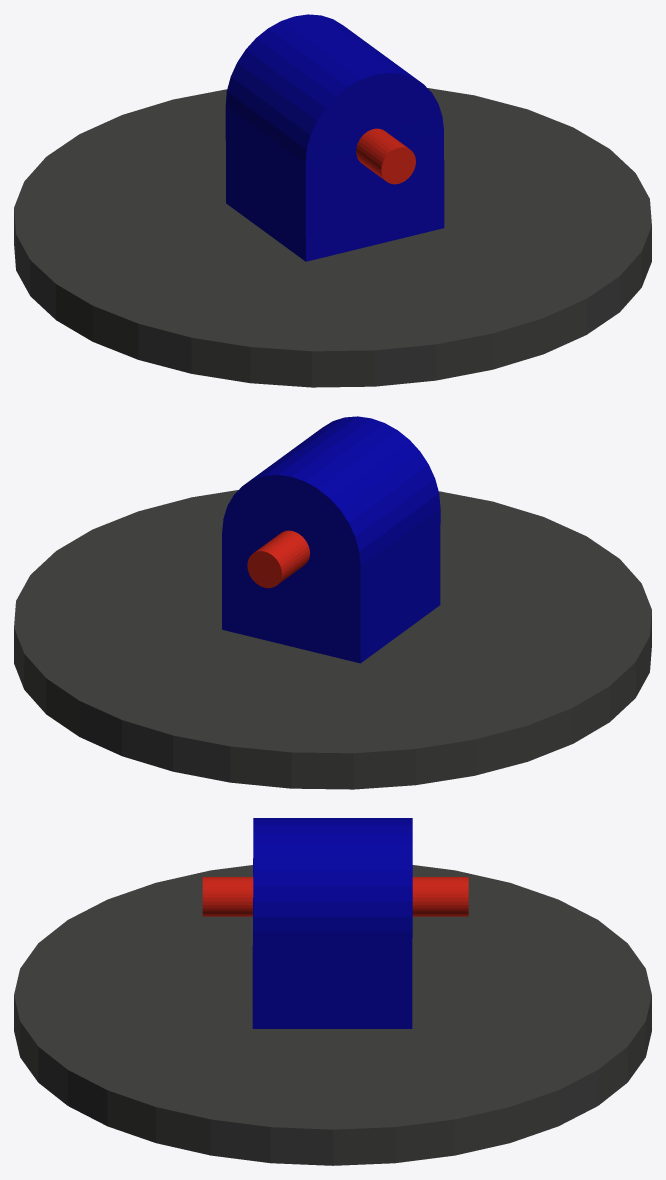
File: RobotBase.obj
3 views of the same model, one above another, from view 1: azimuth 30°, elevation 25°; view 2: azimuth 150°, elevation 25°; view 3: azimuth 270°, elevation 25° (orthographic).
Parts seen in each view (by area): view 1: Base; view 2: Base; view 3: Base.
Boxes of the visible parts, x1=… form: Base: x1=14, y1=14, x2=651, y2=387; Base: x1=14, y1=416, x2=651, y2=789; Base: x1=14, y1=818, x2=651, y2=1165.
Bounding box in the file's own units: 8 × 2.85 × 8.
